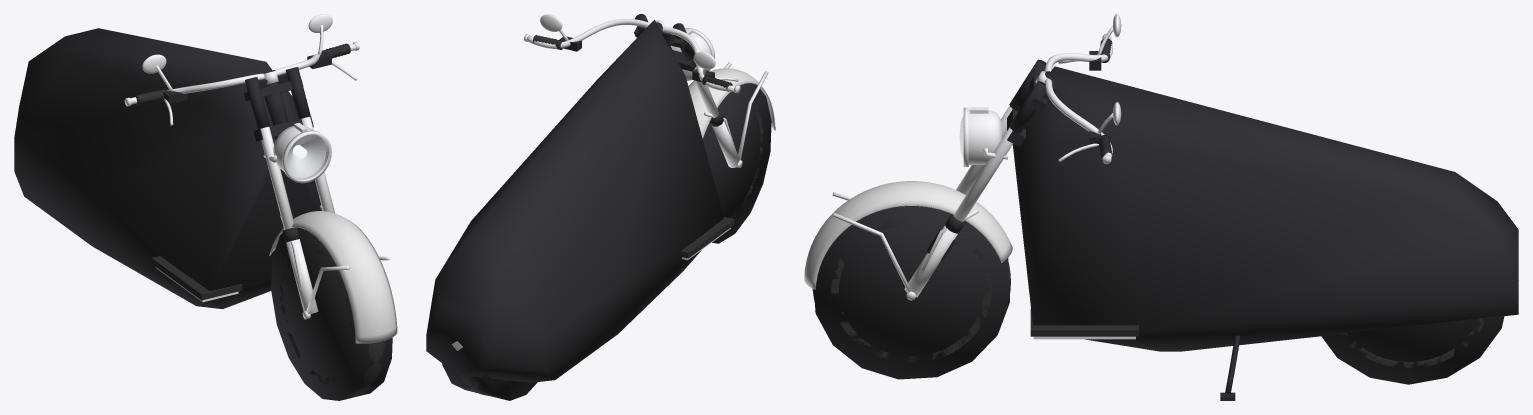
The model's file is motorbike_cruiser.glb.
3 views of the same model, side by side, from view 1: azimuth 30°, elevation 25°; view 2: azimuth 150°, elevation 25°; view 3: azimuth 270°, elevation 25° (orthographic). The views are drawn at different scales.
Parts seen in each view (by area): view 1: COL_BODY, COL_WHEEL_FRONT, FRONT_FENDER, FORK, HANDLEBARS, HEADLIGHT, FRAME_BODY, WHEEL_FRONT; view 2: COL_BODY, COL_WHEEL_FRONT, HANDLEBARS, FORK, FRONT_FENDER, COL_WHEEL_REAR, FRAME_BODY, HEADLIGHT, WHEEL_FRONT; view 3: COL_BODY, COL_WHEEL_FRONT, COL_WHEEL_REAR, FRONT_FENDER, FORK, HANDLEBARS, HEADLIGHT, WHEEL_FRONT, FRAME_BODY, WHEEL_REAR.
Part boxes in pixels (x1,y1,x2,y2): COL_BODY: (14,28,321,309); COL_WHEEL_FRONT: (271,227,392,400); FRONT_FENDER: (269,205,397,343); FORK: (244,67,334,319); HANDLEBARS: (124,14,359,125); HEADLIGHT: (263,122,331,183); FRAME_BODY: (151,70,288,302); WHEEL_FRONT: (279,243,384,397); COL_BODY: (426,20,723,382); COL_WHEEL_FRONT: (703,83,771,243); HANDLEBARS: (524,14,740,93); FORK: (634,14,742,167); FRONT_FENDER: (688,62,775,160); COL_WHEEL_REAR: (442,363,537,400); FRAME_BODY: (451,22,734,350); HEADLIGHT: (671,28,714,80); WHEEL_FRONT: (704,95,763,218); COL_BODY: (1012,66,1518,351); COL_WHEEL_FRONT: (814,206,1009,379); COL_WHEEL_REAR: (1321,315,1504,384); FRONT_FENDER: (804,181,1012,292); FORK: (904,59,1047,300); HANDLEBARS: (1040,14,1121,164); HEADLIGHT: (960,107,1008,166); WHEEL_FRONT: (812,218,1010,362); FRAME_BODY: (1030,71,1518,339); WHEEL_REAR: (1340,318,1484,368).
Bounding box in the file's own units: 0.96 × 1.14 × 2.37.
12 materials, 5 textured.
